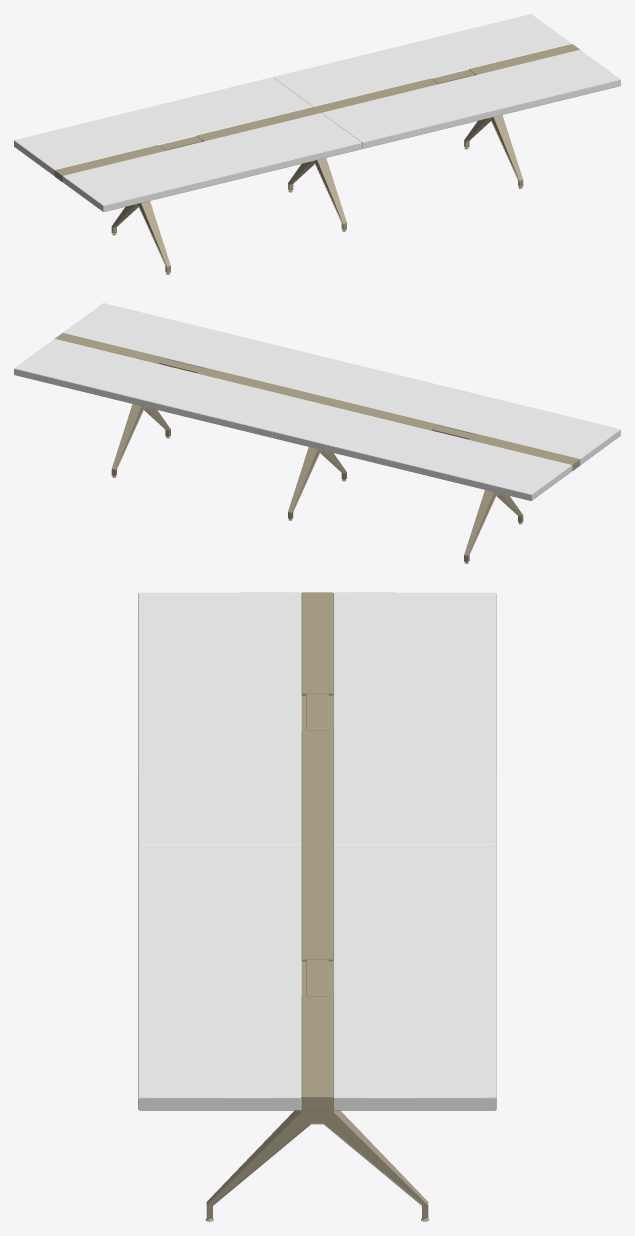
Rendered from meeting table.gltf.
The picture shows the model from 3 angles, top to bottom: view 1: azimuth 30°, elevation 25°; view 2: azimuth 150°, elevation 25°; view 3: azimuth 270°, elevation 25°; orthographic projection. The views are drawn at different scales.
Parts seen in each view (by area): view 1: Boss_Extrude32_2_; view 2: Boss_Extrude32_2_; view 3: Boss_Extrude32_2_.
Boxes of the visible parts, box(x1,y1,x2,y2) form: Boss_Extrude32_2_: box(14, 14, 620, 274); Boss_Extrude32_2_: box(14, 303, 620, 563); Boss_Extrude32_2_: box(138, 592, 496, 1221).
Bounding box in the file's own units: 4 × 0.75 × 1.2.
